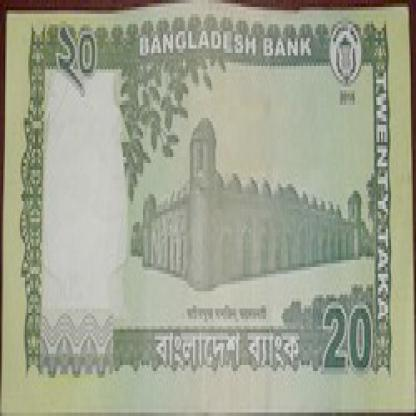Twenty: (310, 294, 378, 392), (57, 14, 119, 114)
